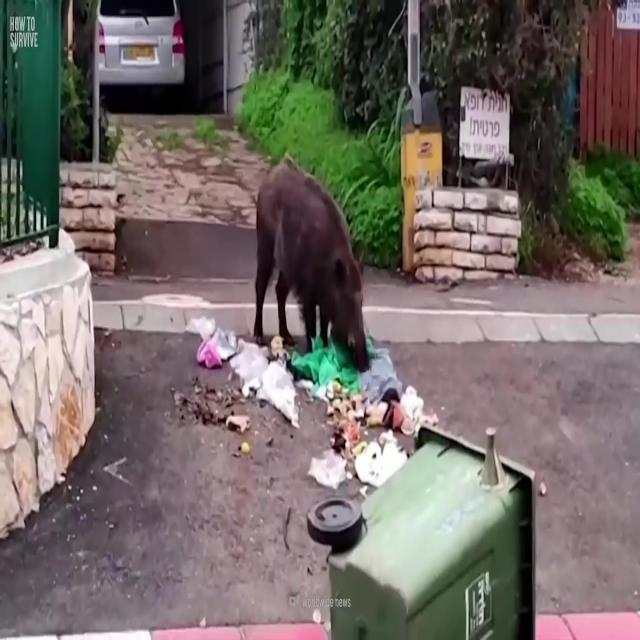pig: (246, 166, 371, 383)
